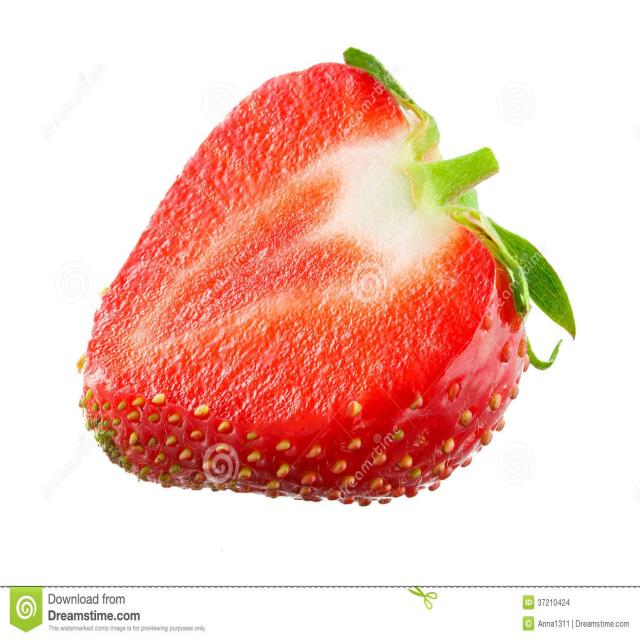strawberry: (64, 35, 574, 501)
